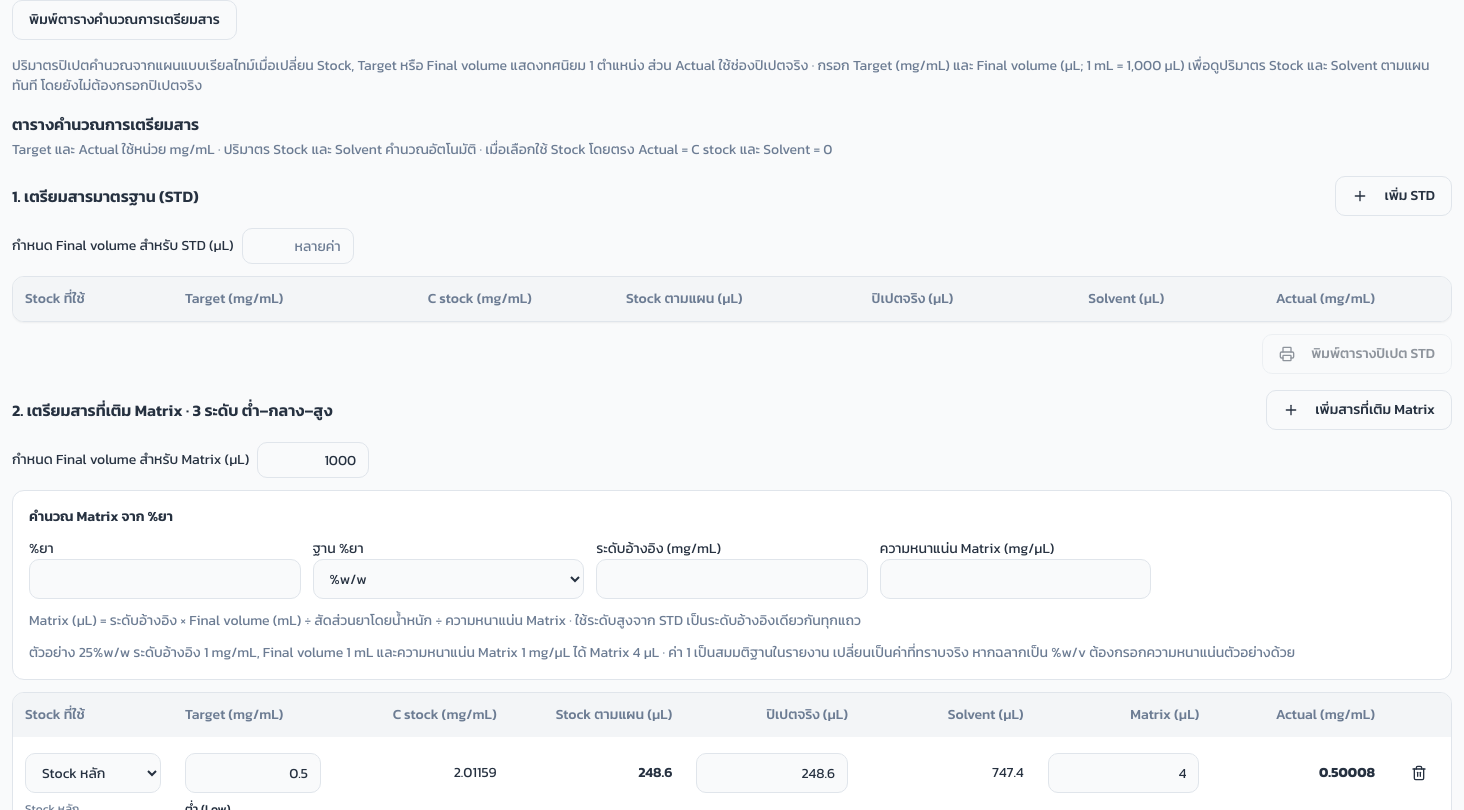
หน่วยในแผนเตรียมสาร › แปลงหน่วยและคำนวณปิเปตตาม Target แบบเรียลไทม์
Expected: the text named "aliquot ระดับ 1" reads "248.6", [638,762,672,783]
Replace the text in the number field named "target ระดับ 1" with "0.4" at (253, 773), box [185,753,321,793]
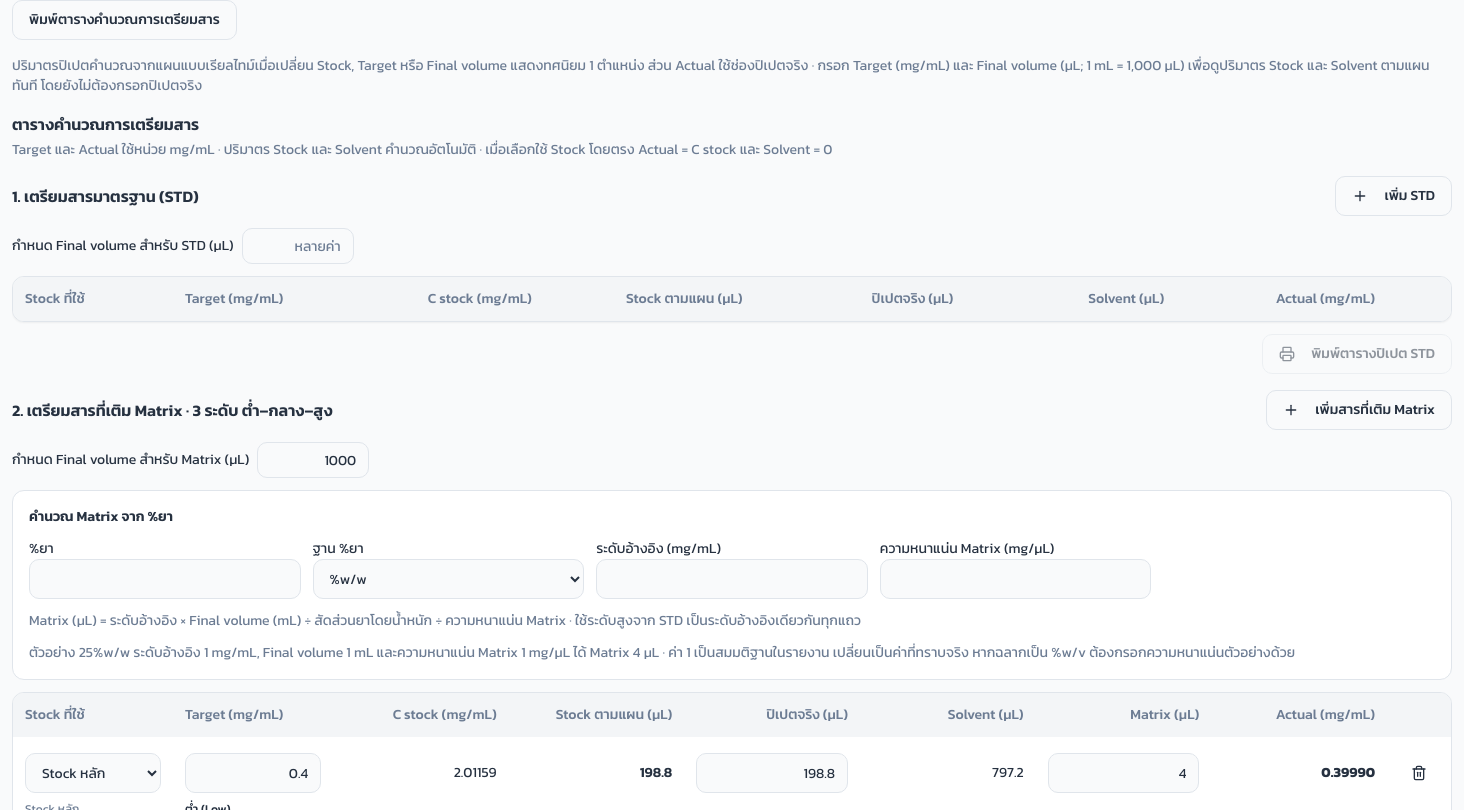
Now the text named "aliquot ระดับ 1" reads "198.8", box [640,762,672,783]
Replace the text in the number field named "Final volume matrix" with "2000" at (313, 460), box [257,442,369,478]
(page scrolled)
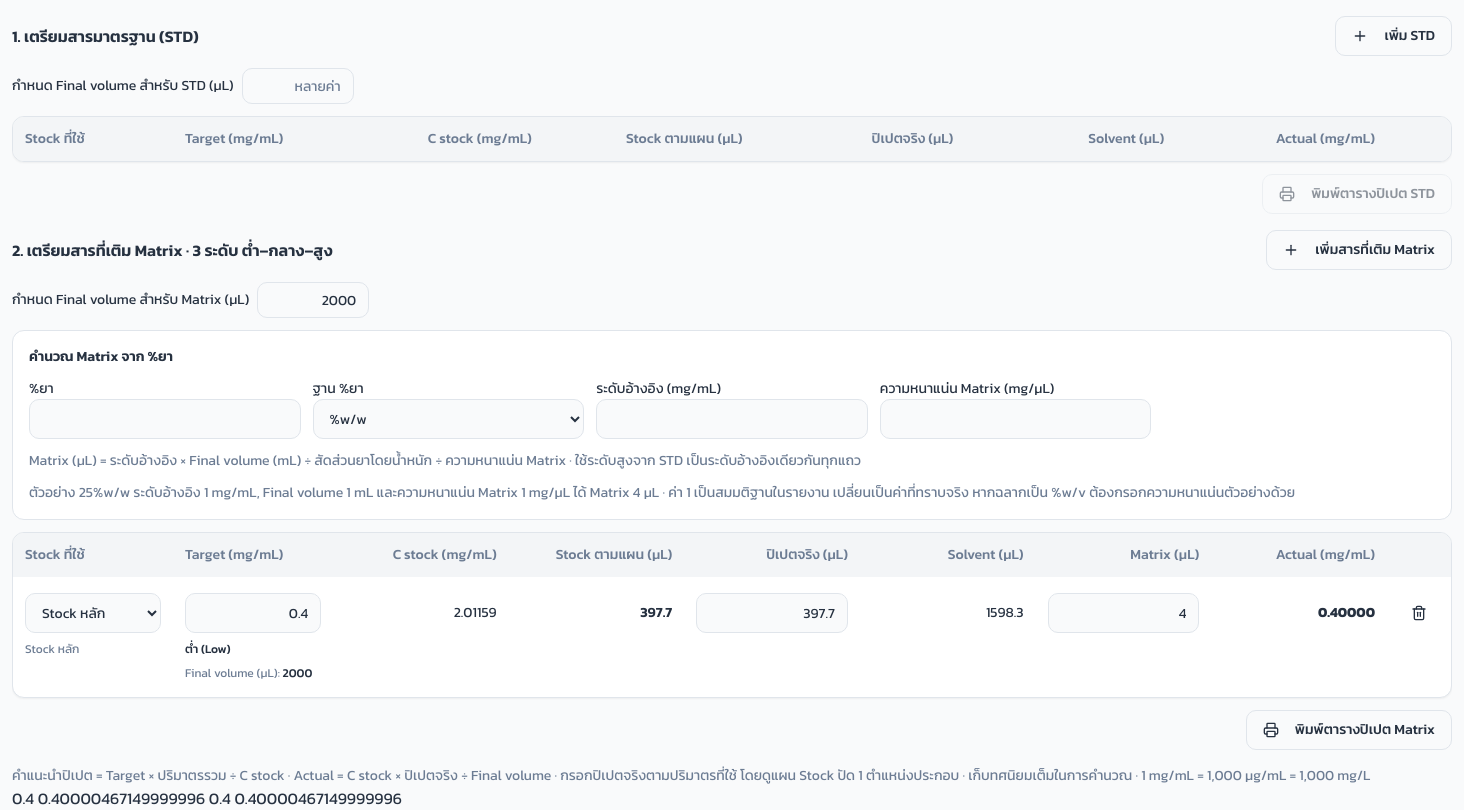
Now the text named "aliquot ระดับ 1" reads "397.7", box [640,602,672,623]
Now the text named "finalVolume ระดับ 1" reads "2000", box [283,664,312,682]
